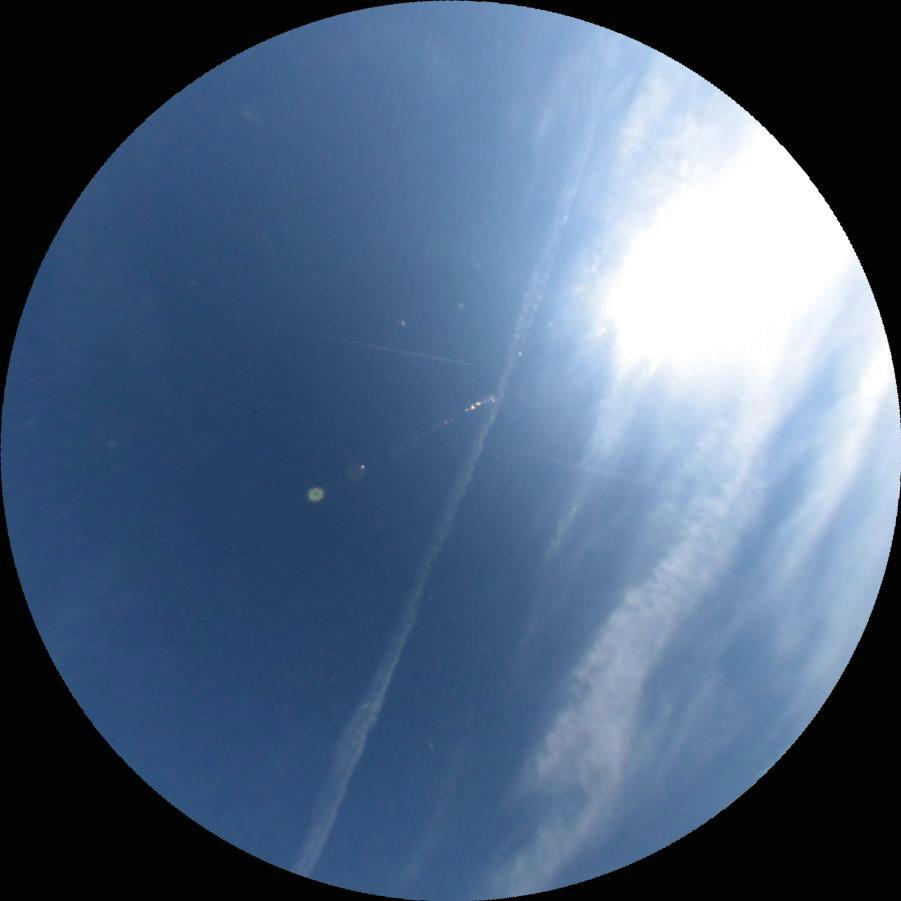contrail old: (286, 119, 615, 880)
contrail young: (298, 329, 470, 366)
sun: (597, 144, 856, 370)
unknow: (510, 446, 660, 491)
